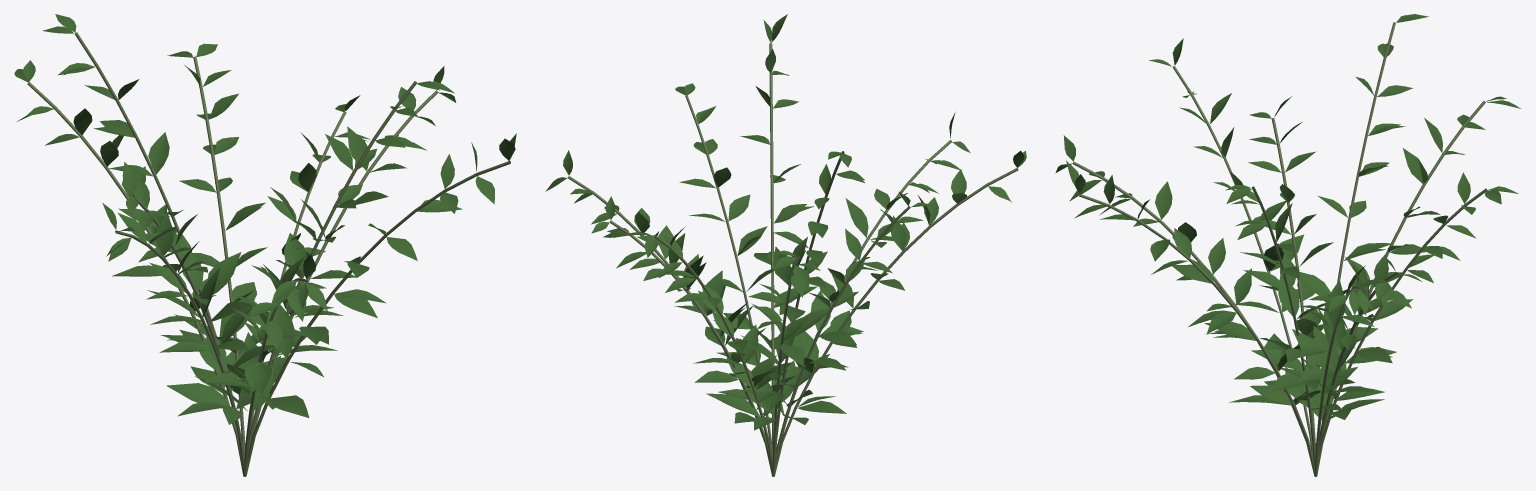
The model's file is ruscus-1.glb.
3 views of the same model, side by side, from view 1: azimuth 30°, elevation 25°; view 2: azimuth 150°, elevation 25°; view 3: azimuth 270°, elevation 25° (orthographic). The views are drawn at different scales.
Parts seen in each view (by area): view 1: ruscus-leaves, ruscus-stems; view 2: ruscus-leaves, ruscus-stems; view 3: ruscus-leaves, ruscus-stems.
Part boxes in pixels (left/top/right/bottom): ruscus-leaves: left=14, top=14, right=516, bottom=424; ruscus-stems: left=27, top=32, right=510, bottom=476; ruscus-leaves: left=545, top=14, right=1026, bottom=430; ruscus-stems: left=567, top=43, right=1018, bottom=476; ruscus-leaves: left=1055, top=14, right=1520, bottom=421; ruscus-stems: left=1072, top=22, right=1487, bottom=476.
Bounding box in the file's own units: 0.6174 × 0.5803 × 0.6067.
